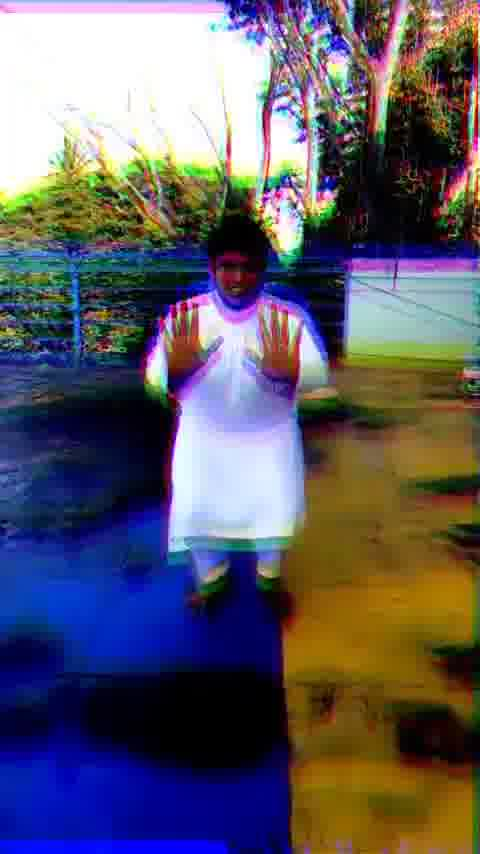duck: (137, 221, 340, 635)
